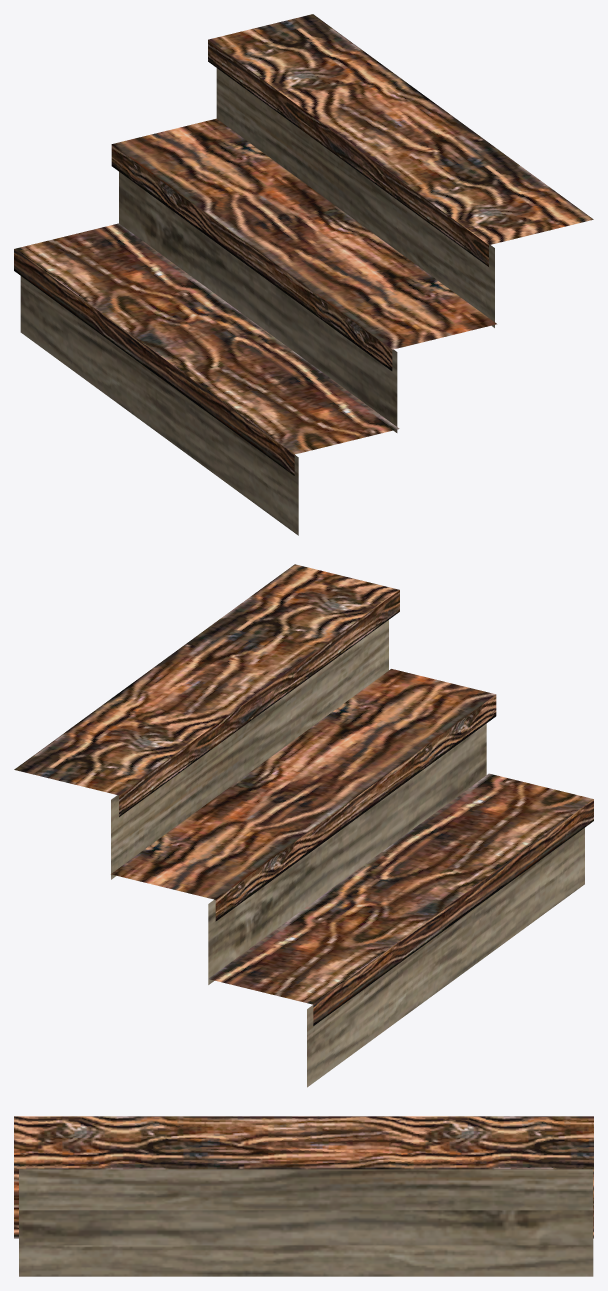
File: LAKETOWN_PUB_PS_PUB_STAIR28.fbx
The picture shows the model from 3 angles, top to bottom: view 1: azimuth 30°, elevation 25°; view 2: azimuth 150°, elevation 25°; view 3: azimuth 270°, elevation 25°; orthographic projection. The views are drawn at different scales.
Visible parts, largest first — view 1: LAKETOWN_PUB_PS_PUB_STAIR28; view 2: LAKETOWN_PUB_PS_PUB_STAIR28; view 3: LAKETOWN_PUB_PS_PUB_STAIR28.
Boxes of the visible parts, bbox=[...] form: LAKETOWN_PUB_PS_PUB_STAIR28: bbox=[14, 14, 593, 535]; LAKETOWN_PUB_PS_PUB_STAIR28: bbox=[14, 564, 593, 1087]; LAKETOWN_PUB_PS_PUB_STAIR28: bbox=[14, 1116, 593, 1276].
Size of the model in its own units: 10253 by 8080 by 16674.
2 materials, 2 textured.
